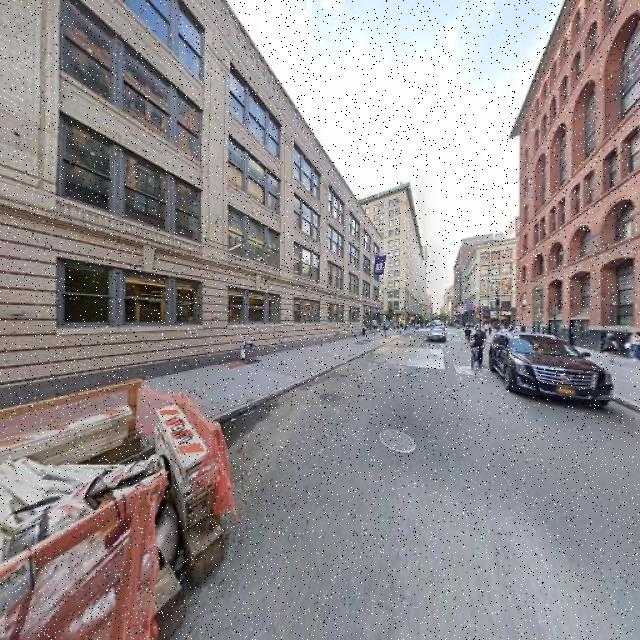Building: (1, 1, 380, 417), (523, 1, 640, 367)
